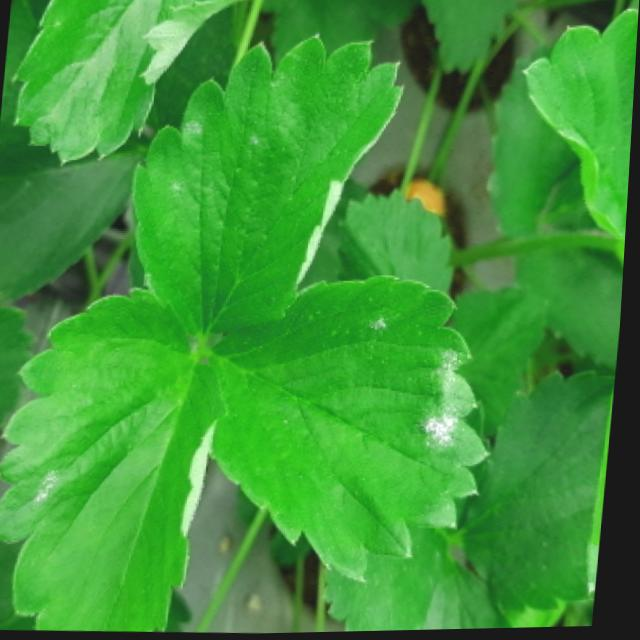Powdery Mildew Leaf: (193, 275, 494, 583), (133, 33, 406, 338), (0, 285, 231, 633), (10, 0, 247, 164)
